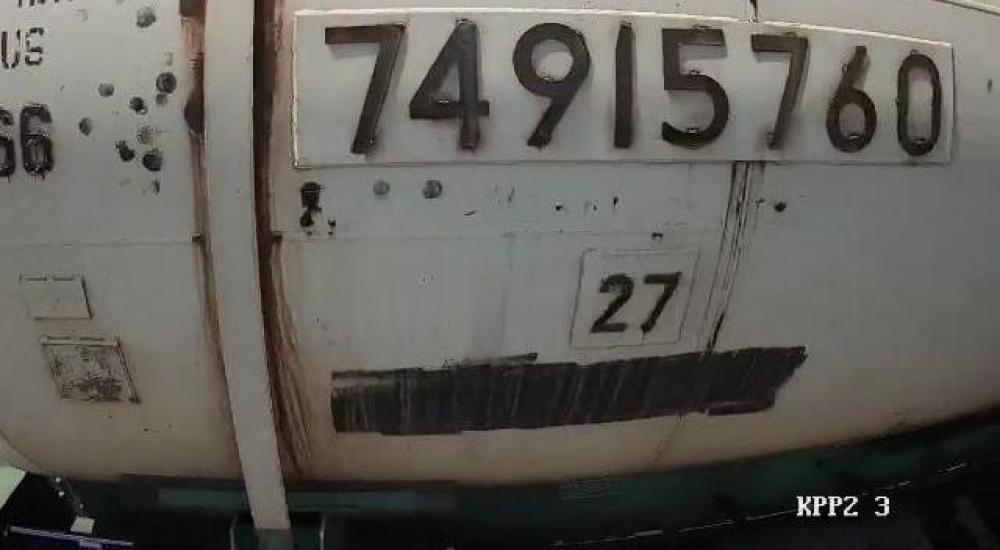Wagon-number: (316, 13, 948, 166)
